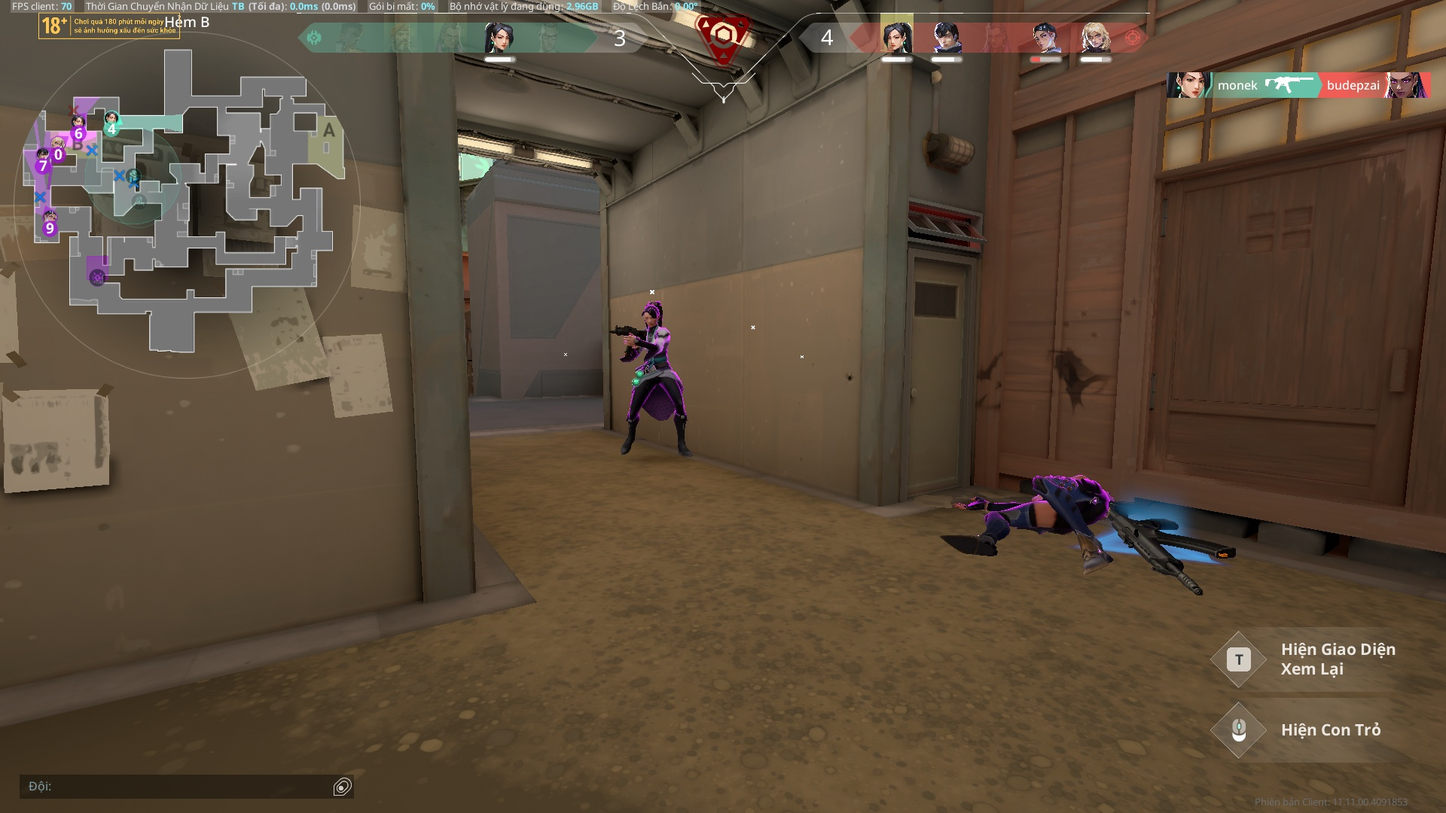body: (641, 326, 669, 363)
head: (642, 305, 657, 325)
